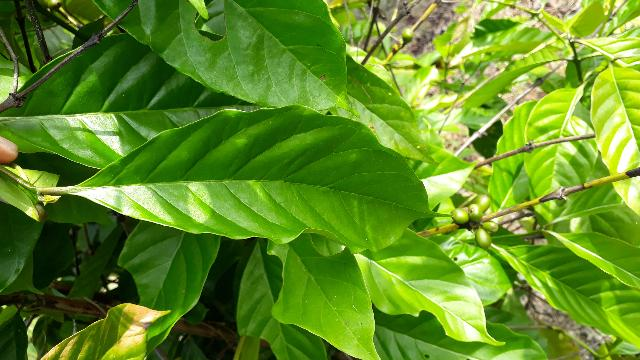healthy: (49, 102, 458, 255)
